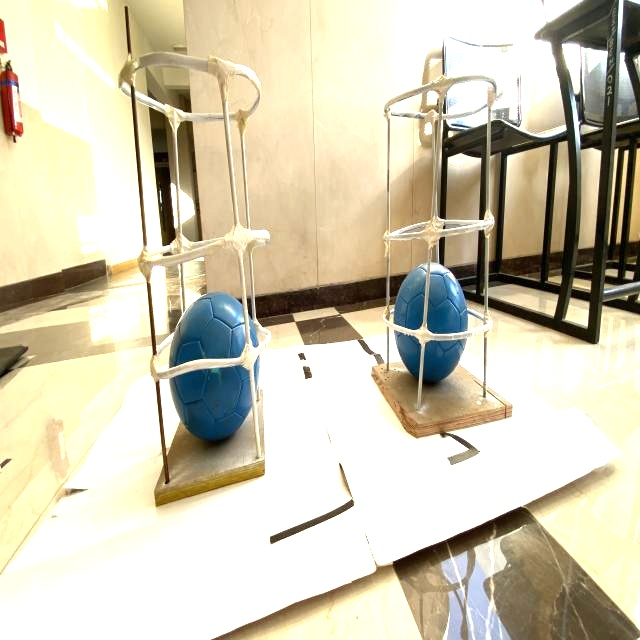blue_ball: (168, 289, 259, 434), (393, 260, 470, 388)
silo: (119, 53, 270, 484), (374, 76, 514, 418)
